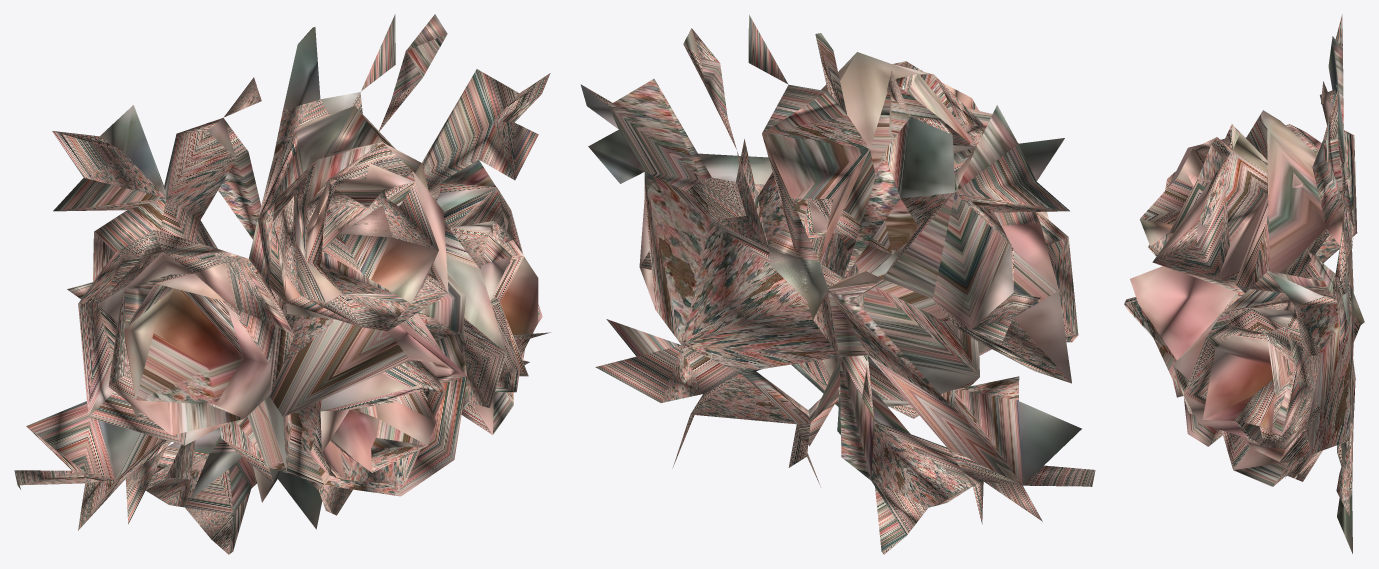
The picture shows the model from 3 angles, left to right: view 1: azimuth 30°, elevation 25°; view 2: azimuth 150°, elevation 25°; view 3: azimuth 270°, elevation 25°; orthographic projection. The views are drawn at different scales.
Visible parts, largest first — view 1: Rose-Bouquet-9-32; view 2: Rose-Bouquet-9-32; view 3: Rose-Bouquet-9-32.
Boxes of the visible parts, <box> form: Rose-Bouquet-9-32: <box>14,14,550,554</box>; Rose-Bouquet-9-32: <box>580,14,1095,554</box>; Rose-Bouquet-9-32: <box>1124,14,1364,553</box>.
Bounding box in the file's own units: 0.3306 × 0.3047 × 0.1508.
1 material, 1 textured.
